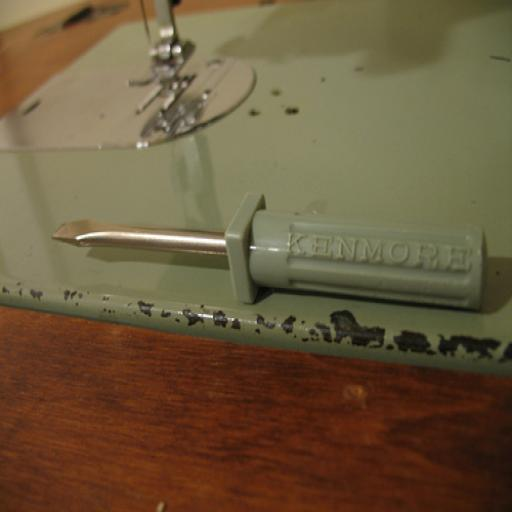screwdriver: (52, 191, 489, 306)
